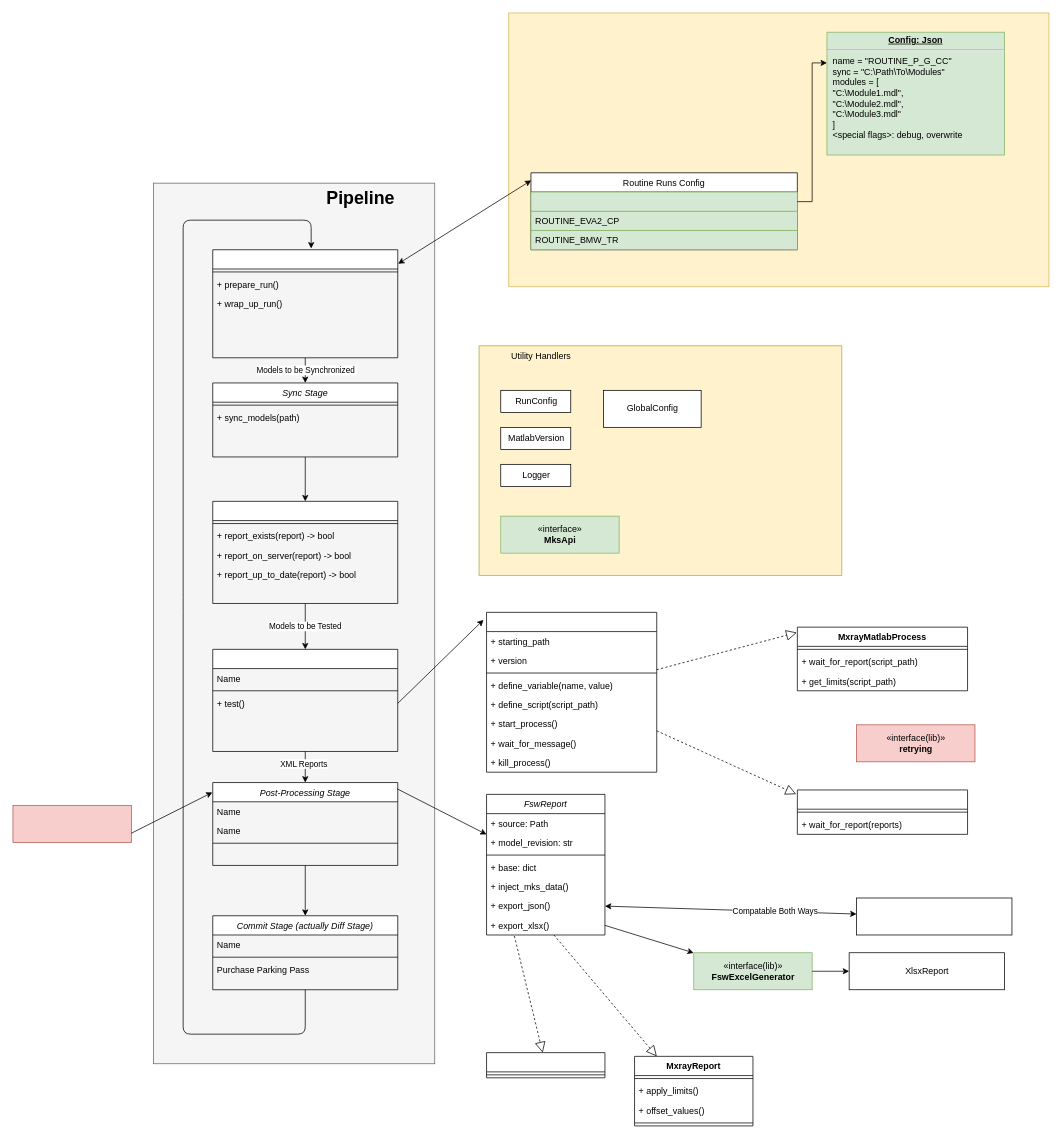
This 1062x1139 diagram has some shape labels left out. Each missing label, with the box of its shape:
Config Stage: (212, 249, 398, 358)
Diff Stage: (212, 501, 398, 603)
JsonReport: (856, 897, 1012, 935)
MatlabFswProcess: (486, 612, 657, 772)
MxamMatlabProcess: (797, 789, 968, 834)
MxamReport: (486, 1052, 605, 1078)
ROUTINE_P_G_CC: (530, 191, 797, 211)
Test Stage: (212, 649, 398, 751)
«interface(lib)» xmlToDict: (12, 805, 131, 842)
